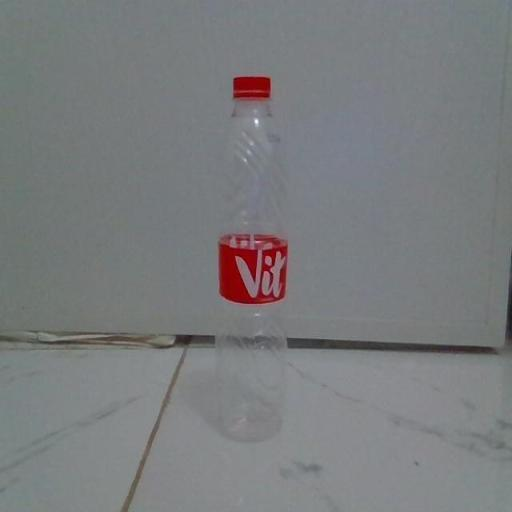bottle: (196, 57, 320, 465)
